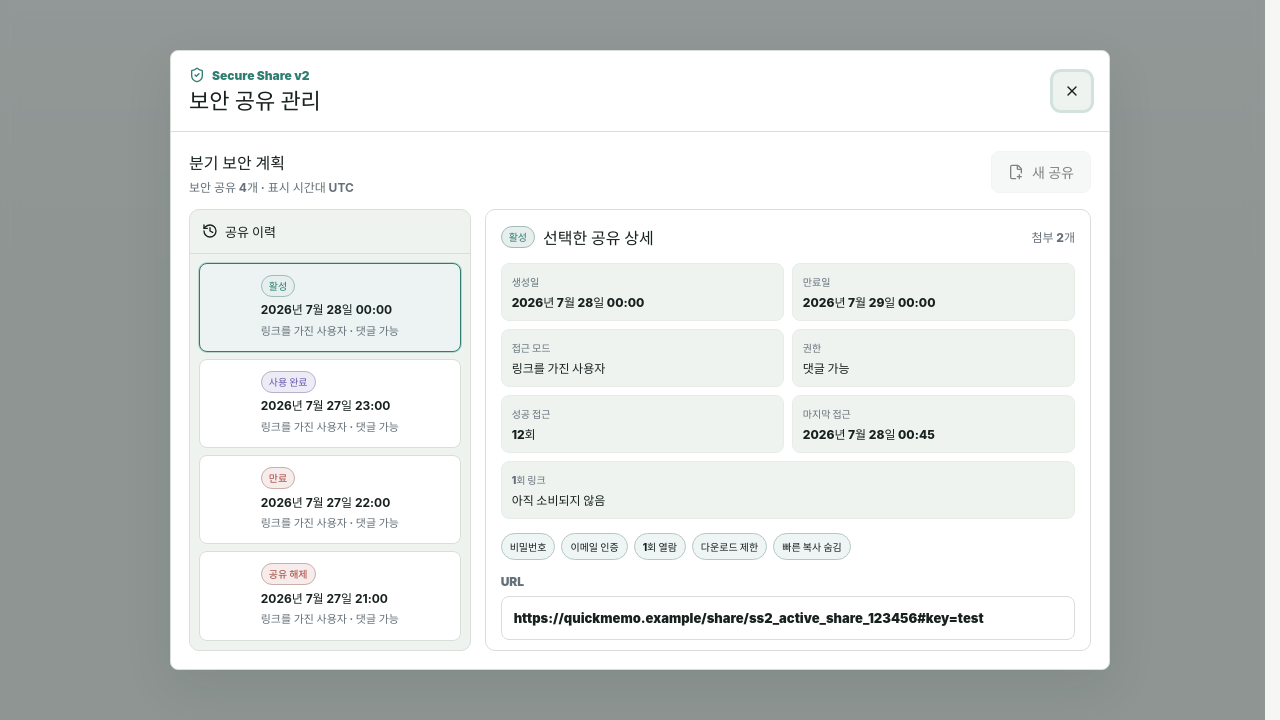
Test: SecureShareOwnerModal management history › shows full history and switches detail/action availability by effective state
The width and height of the screenshot is (1280, 720).
Check: the text "분기 보안 계획" is shown, box [189,153,285,173]
Check: the text "보안 공유 4개 · 표시 시간대 UTC" is shown, box [189,178,354,195]
Click the button "사용 완료".
click(330, 404)  # box [199,359,461,448]
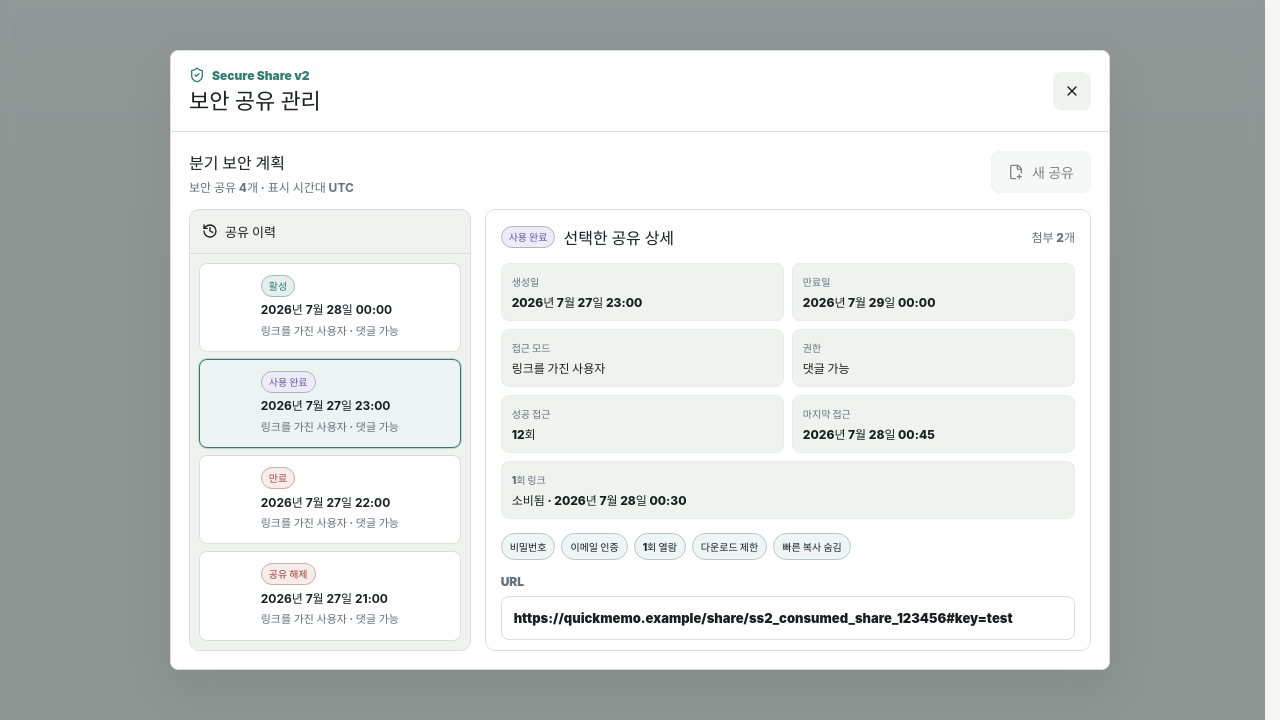
Check: the element "선택한 공유 상세" is shown, box [485,209,1091,651]
Check: the text "소비됨" is shown, box [512,493,686,508]
Click the button "만료".
click(330, 500)  # box [199,455,461,544]
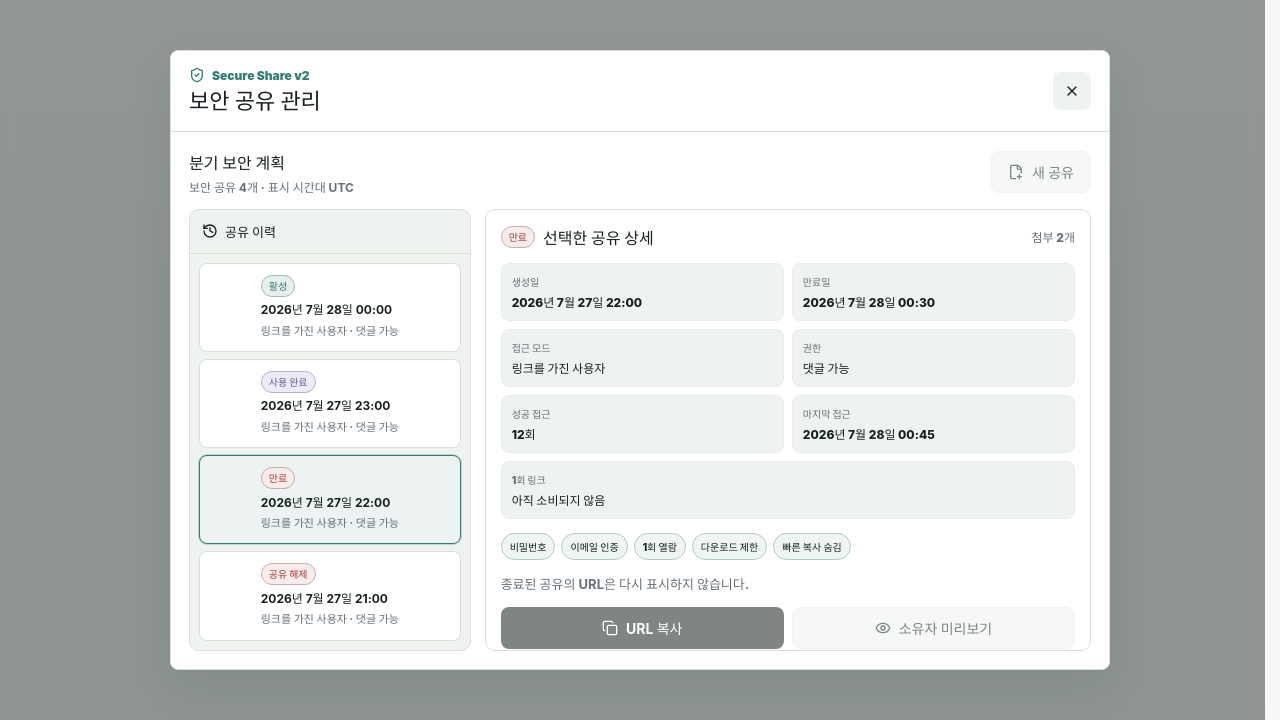
Check: the button "새 공유" is disabled, box [991,151,1091,193]
Check: the button "URL 복사" is disabled, box [501,607,784,649]
Check: the button "소유자 미리보기" is disabled, box [792,607,1075,649]
